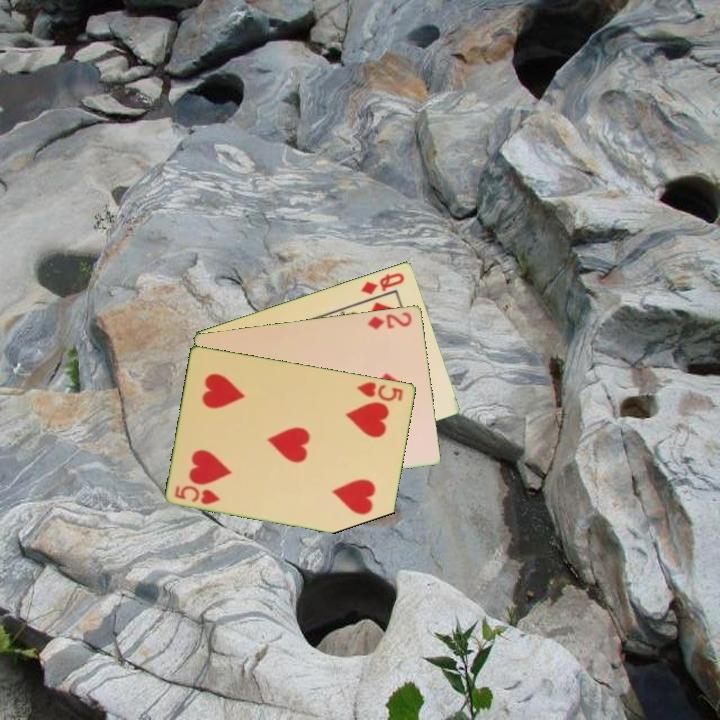2d: (364, 308, 415, 332)
5h: (353, 378, 406, 404), (171, 481, 223, 507)
Qd: (357, 269, 408, 297)
